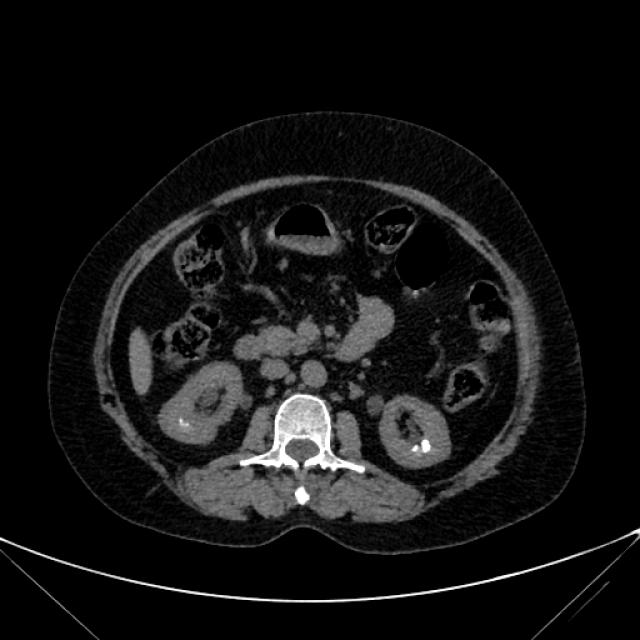kidney: (166, 381, 243, 436), (387, 403, 445, 462)
stone: (421, 442, 431, 451), (179, 419, 188, 426), (412, 446, 418, 450)
